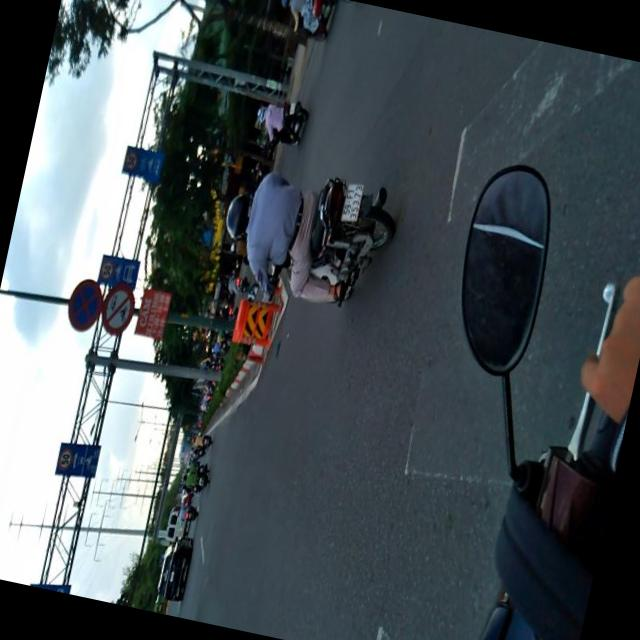P-105: (98, 281, 140, 337)
P-130: (61, 272, 108, 334)
